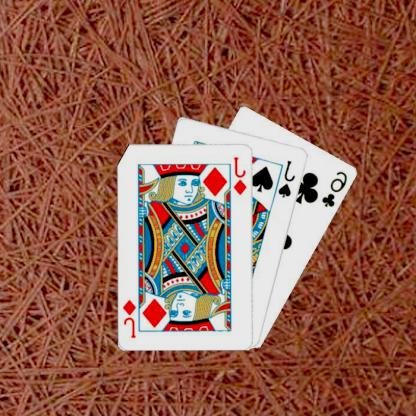6C: (321, 168, 351, 209)
JD: (122, 296, 140, 338), (233, 154, 250, 196)
JS: (277, 158, 299, 199)
